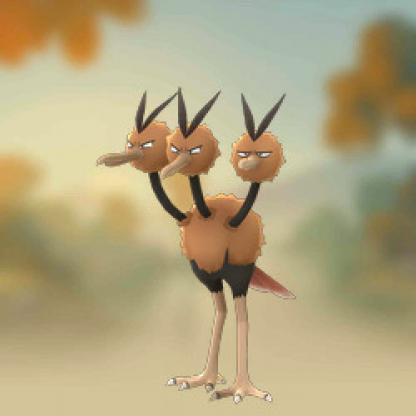Dodrio: (101, 78, 294, 406)
